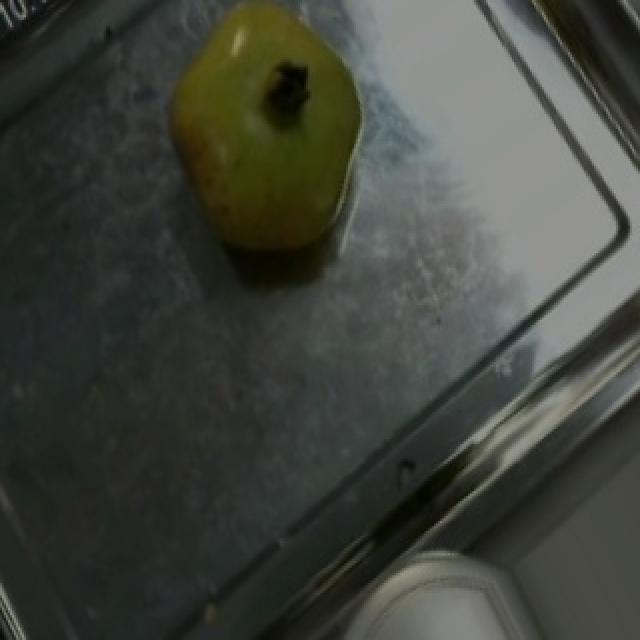fruit: (138, 0, 396, 275)
